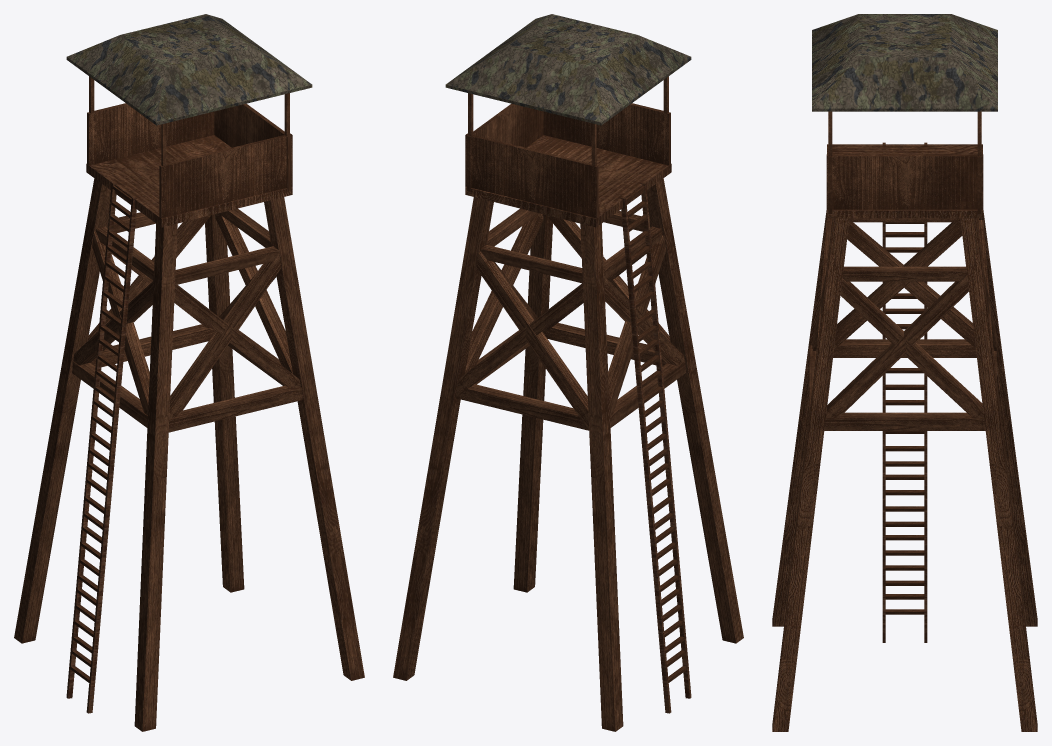
Rendered from WatchTower.fbx.
3 views of the same model, side by side, from view 1: azimuth 30°, elevation 25°; view 2: azimuth 150°, elevation 25°; view 3: azimuth 270°, elevation 25° (orthographic). The views are drawn at different scales.
Visible parts, largest first — view 1: defaultMaterial_mesh0; view 2: defaultMaterial_mesh0; view 3: defaultMaterial_mesh0.
Boxes of the visible parts, <box> form: defaultMaterial_mesh0: <box>14,14,364,731</box>; defaultMaterial_mesh0: <box>393,14,743,731</box>; defaultMaterial_mesh0: <box>772,14,1037,731</box>.
Size of the model in its own units: 732 by 2000 by 729.
1 material, 1 textured.
